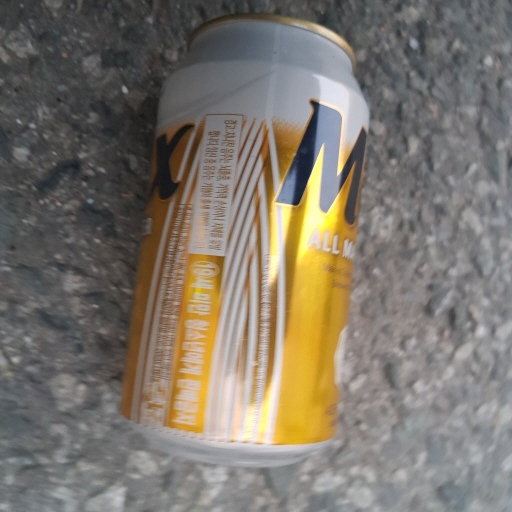Metal_0: (121, 13, 370, 472)
